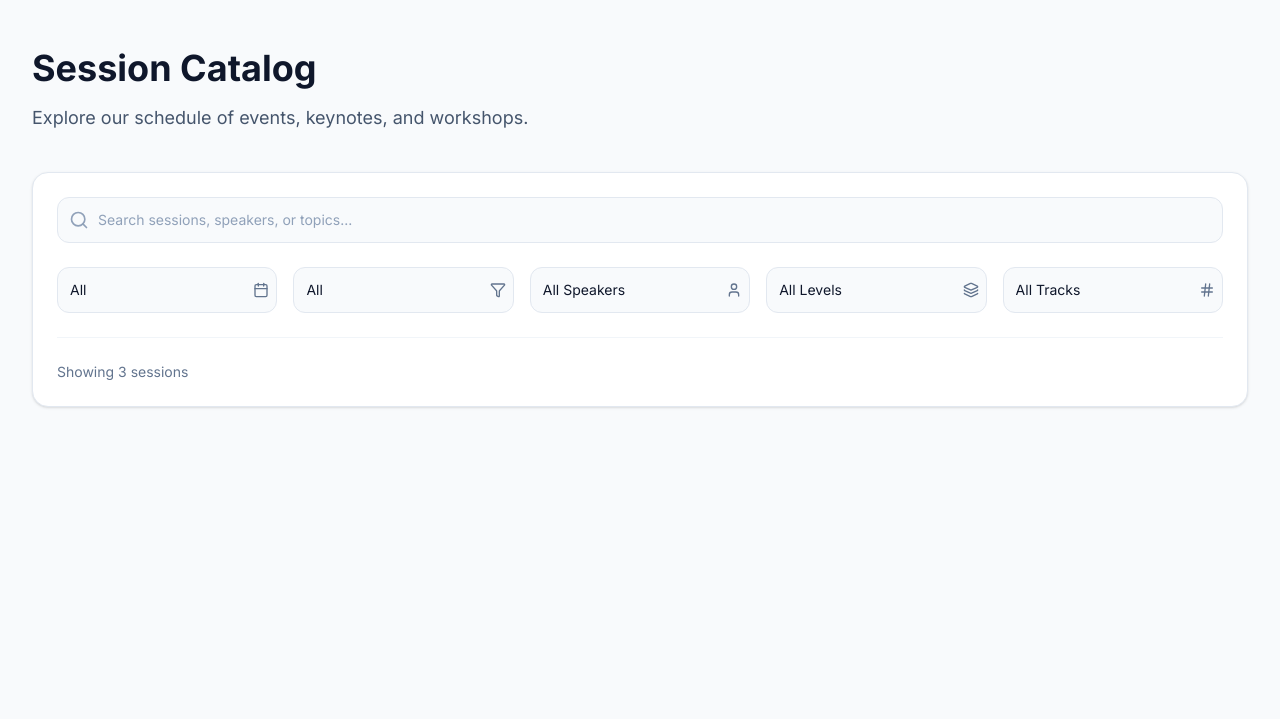
it: Catalog Page › filters by Day
Select "Day 2" in the 1st dropdown at (167, 290), box top-left (57, 267), bottom-right (277, 313)
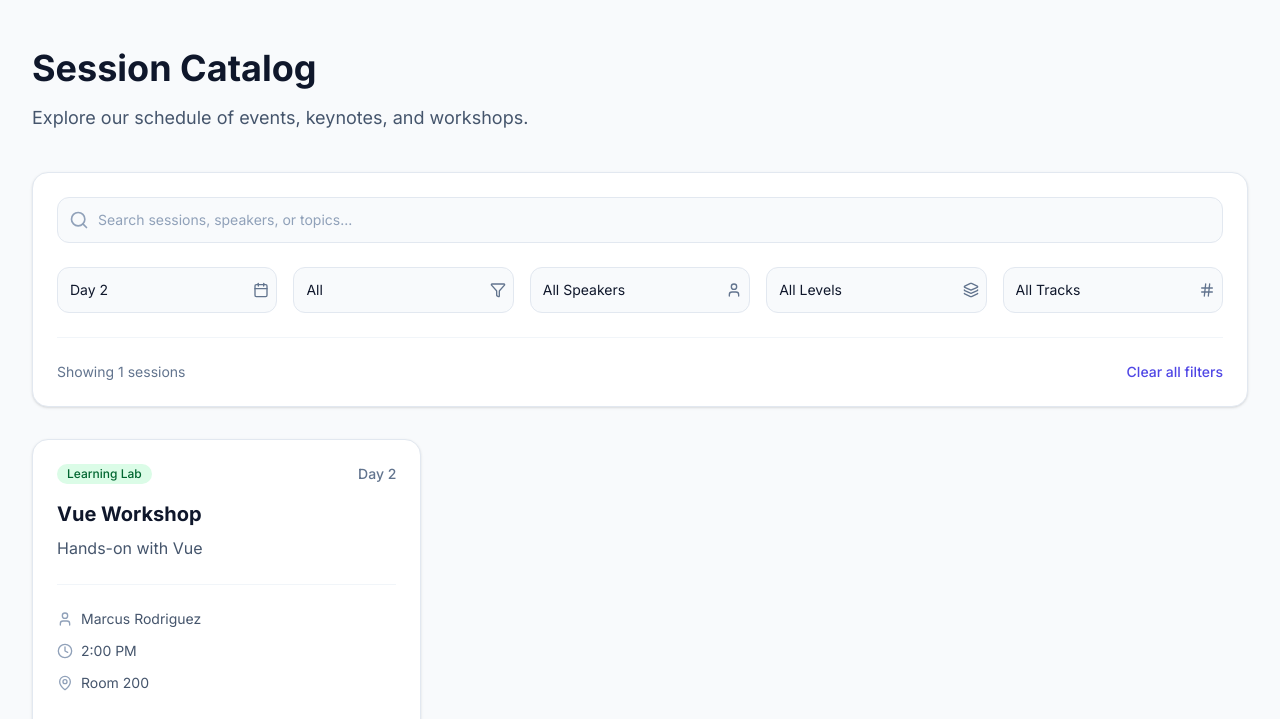
expect the heading "Vue Workshop" is shown: met, box top-left (57, 502), bottom-right (202, 526)
